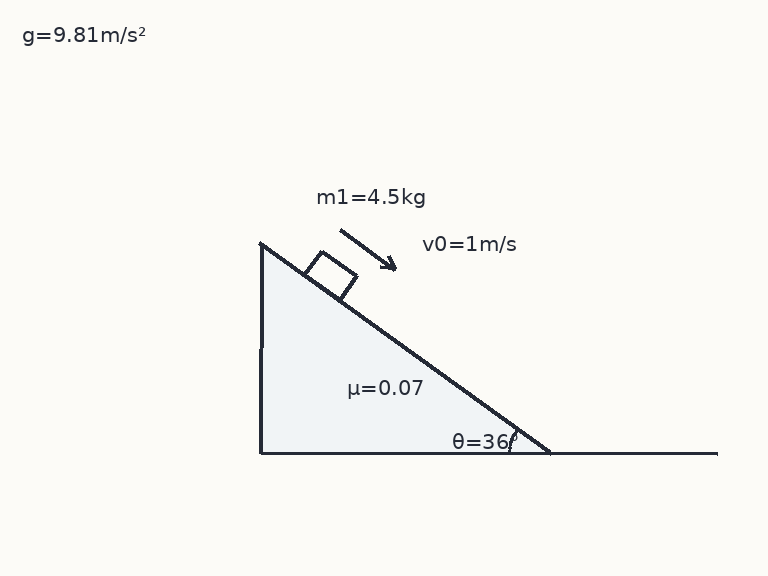block: (302, 249, 358, 302)
ramp: (258, 241, 551, 455)
